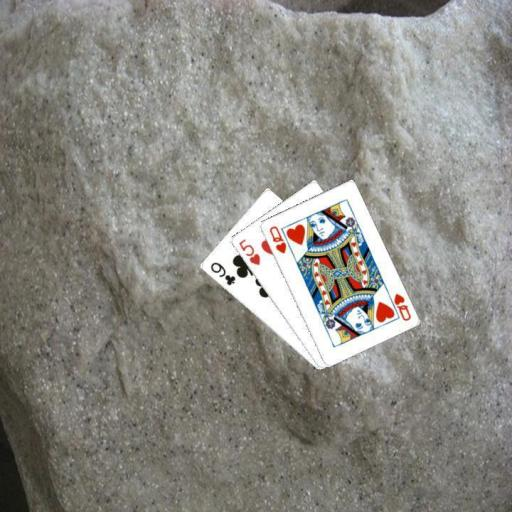card-corner: (384, 290, 412, 322), (235, 235, 262, 267), (207, 259, 237, 287), (266, 223, 287, 255)
